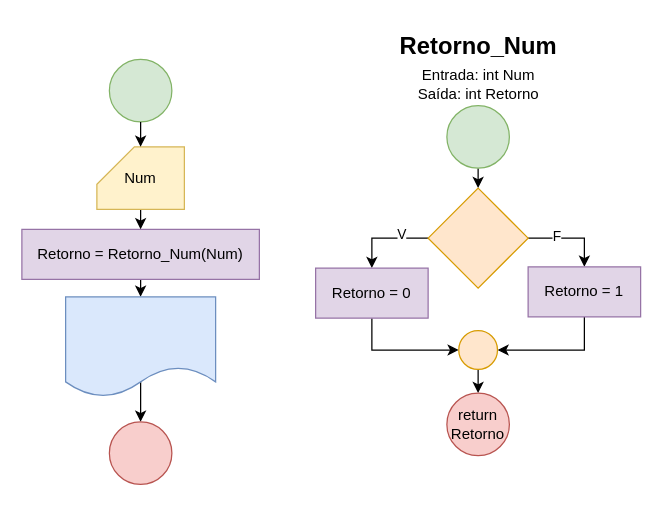
The diagram is 663 pixels wide and 506 high, and some of its shapes have lost their labels. Here are the shapes that lost their labels. From the top down, the box of each, then its label:
(427, 187, 528, 288): Num >= 0 && Num <=10
(64, 296, 216, 397): " A função retornou: "Retorno
